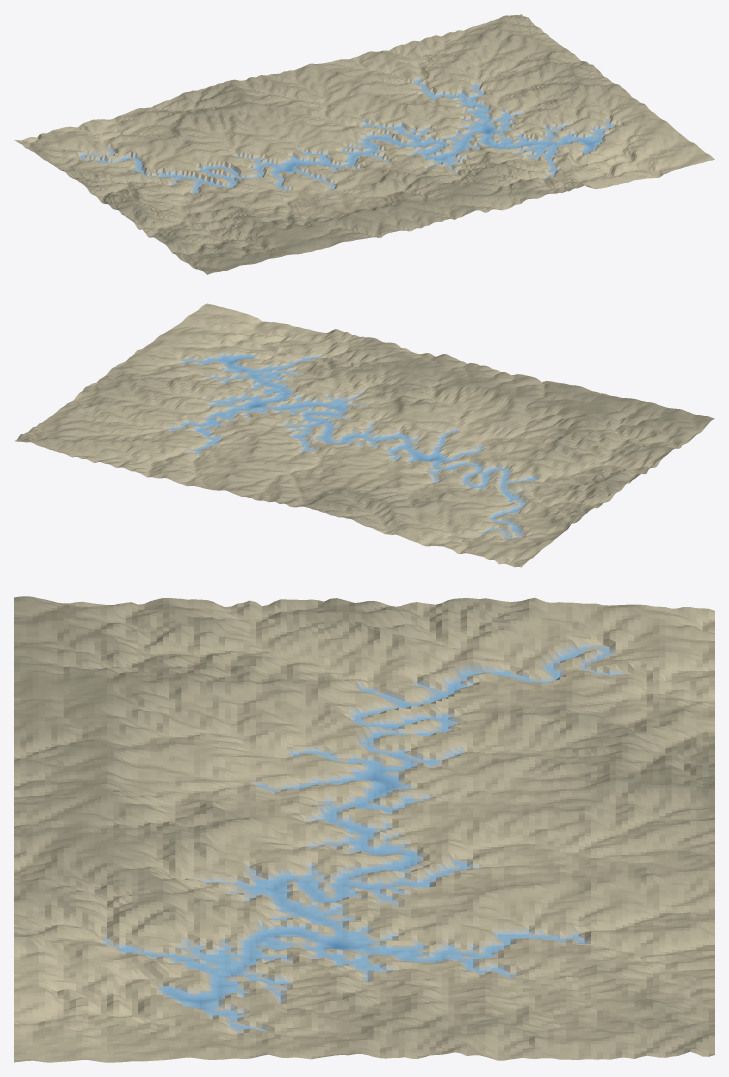
Rendered from bull_shoals_lake_ar.glb.
3 views of the same model, one above another, from view 1: azimuth 30°, elevation 25°; view 2: azimuth 150°, elevation 25°; view 3: azimuth 270°, elevation 25° (orthographic). The views are drawn at different scales.
Visible parts, largest first — view 1: terrain, water; view 2: terrain, water; view 3: terrain, water.
Boxes of the visible parts, bbox=[...] form: terrain: bbox=[14, 14, 714, 274]; water: bbox=[81, 79, 611, 192]; terrain: bbox=[14, 303, 714, 567]; water: bbox=[170, 355, 534, 538]; terrain: bbox=[14, 596, 714, 1062]; water: bbox=[119, 649, 609, 1028].
Bounding box in the file's own units: 63506 × 1741 × 41853.
